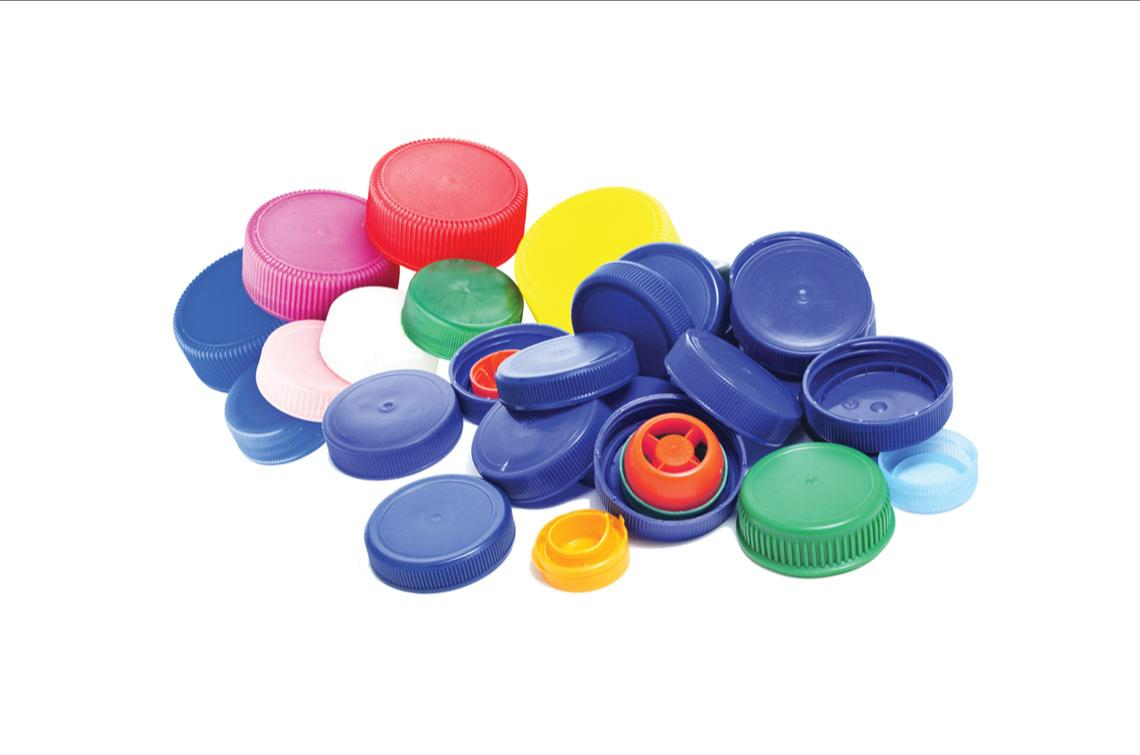Plastik: (734, 336, 954, 580), (321, 368, 516, 595), (365, 137, 532, 274), (364, 138, 529, 274), (729, 231, 872, 376)
